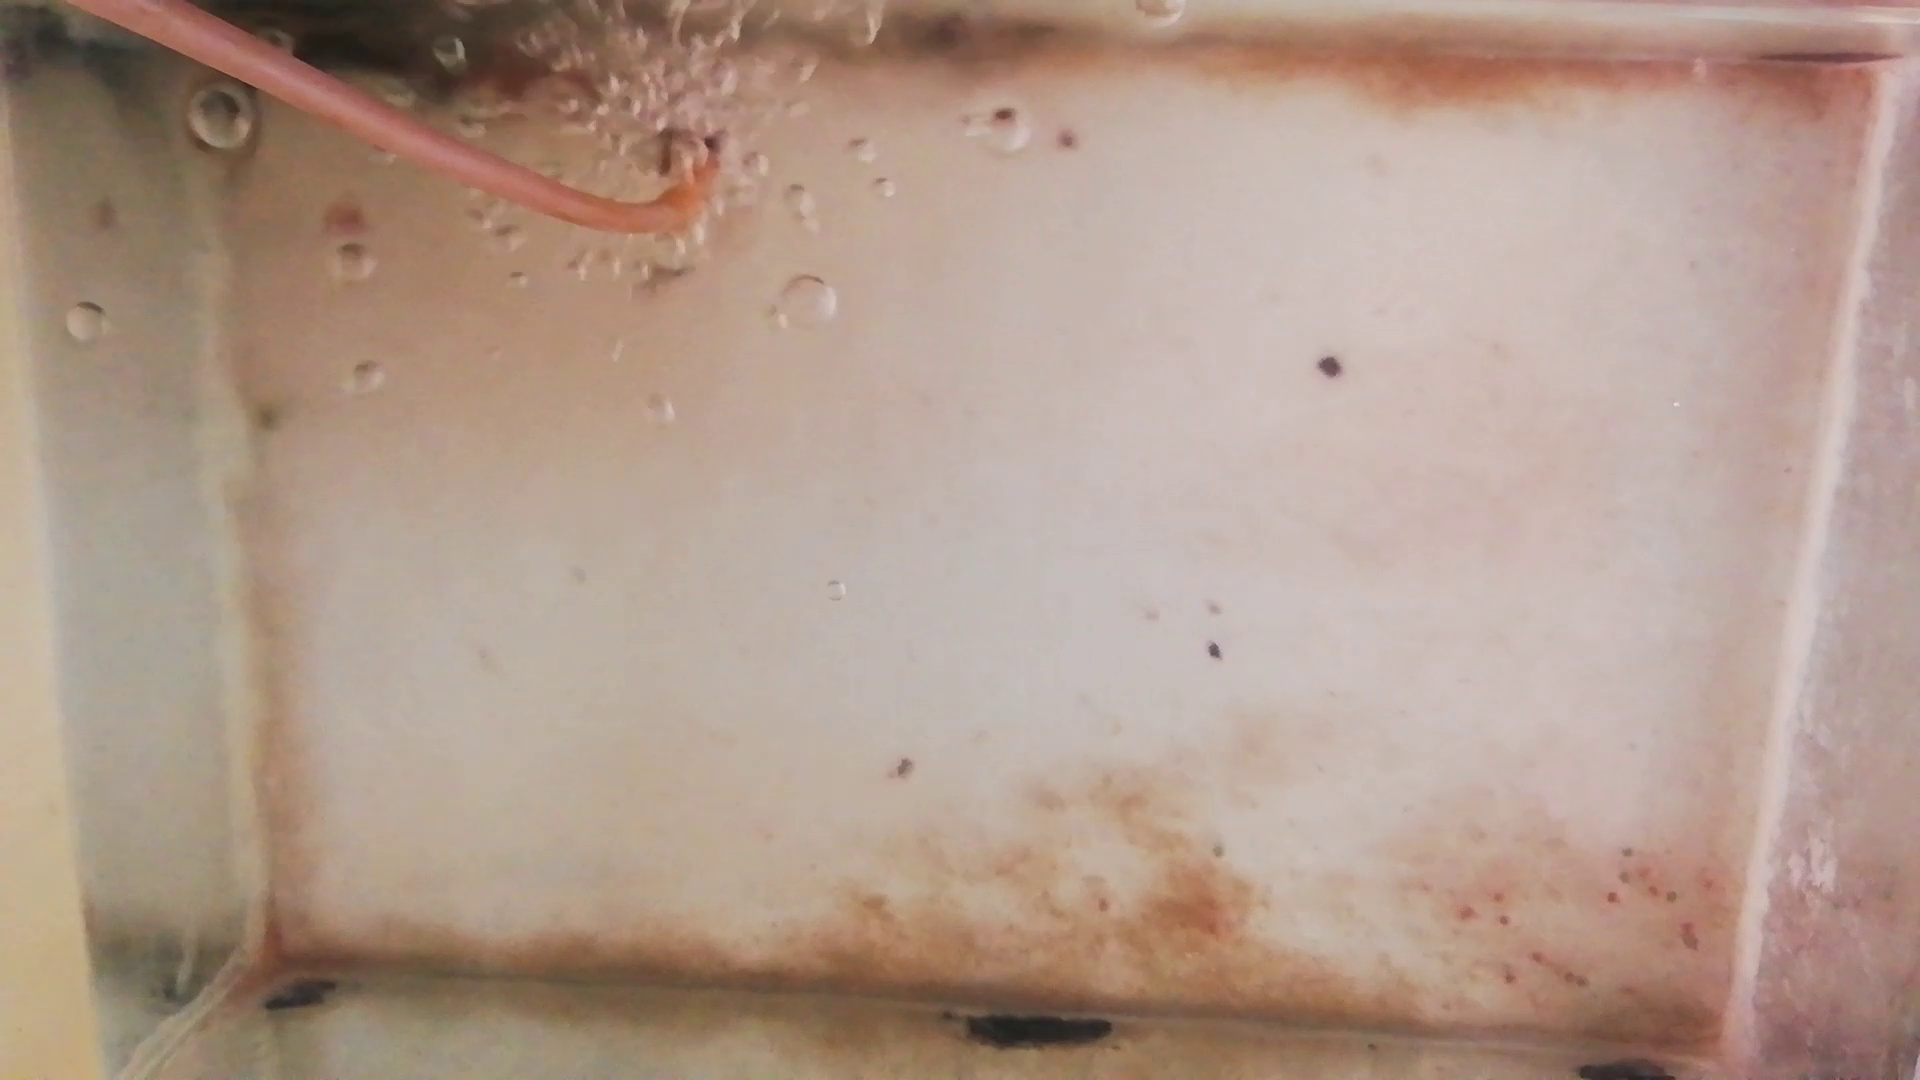fish: (462, 47, 601, 103), (303, 29, 434, 79)
